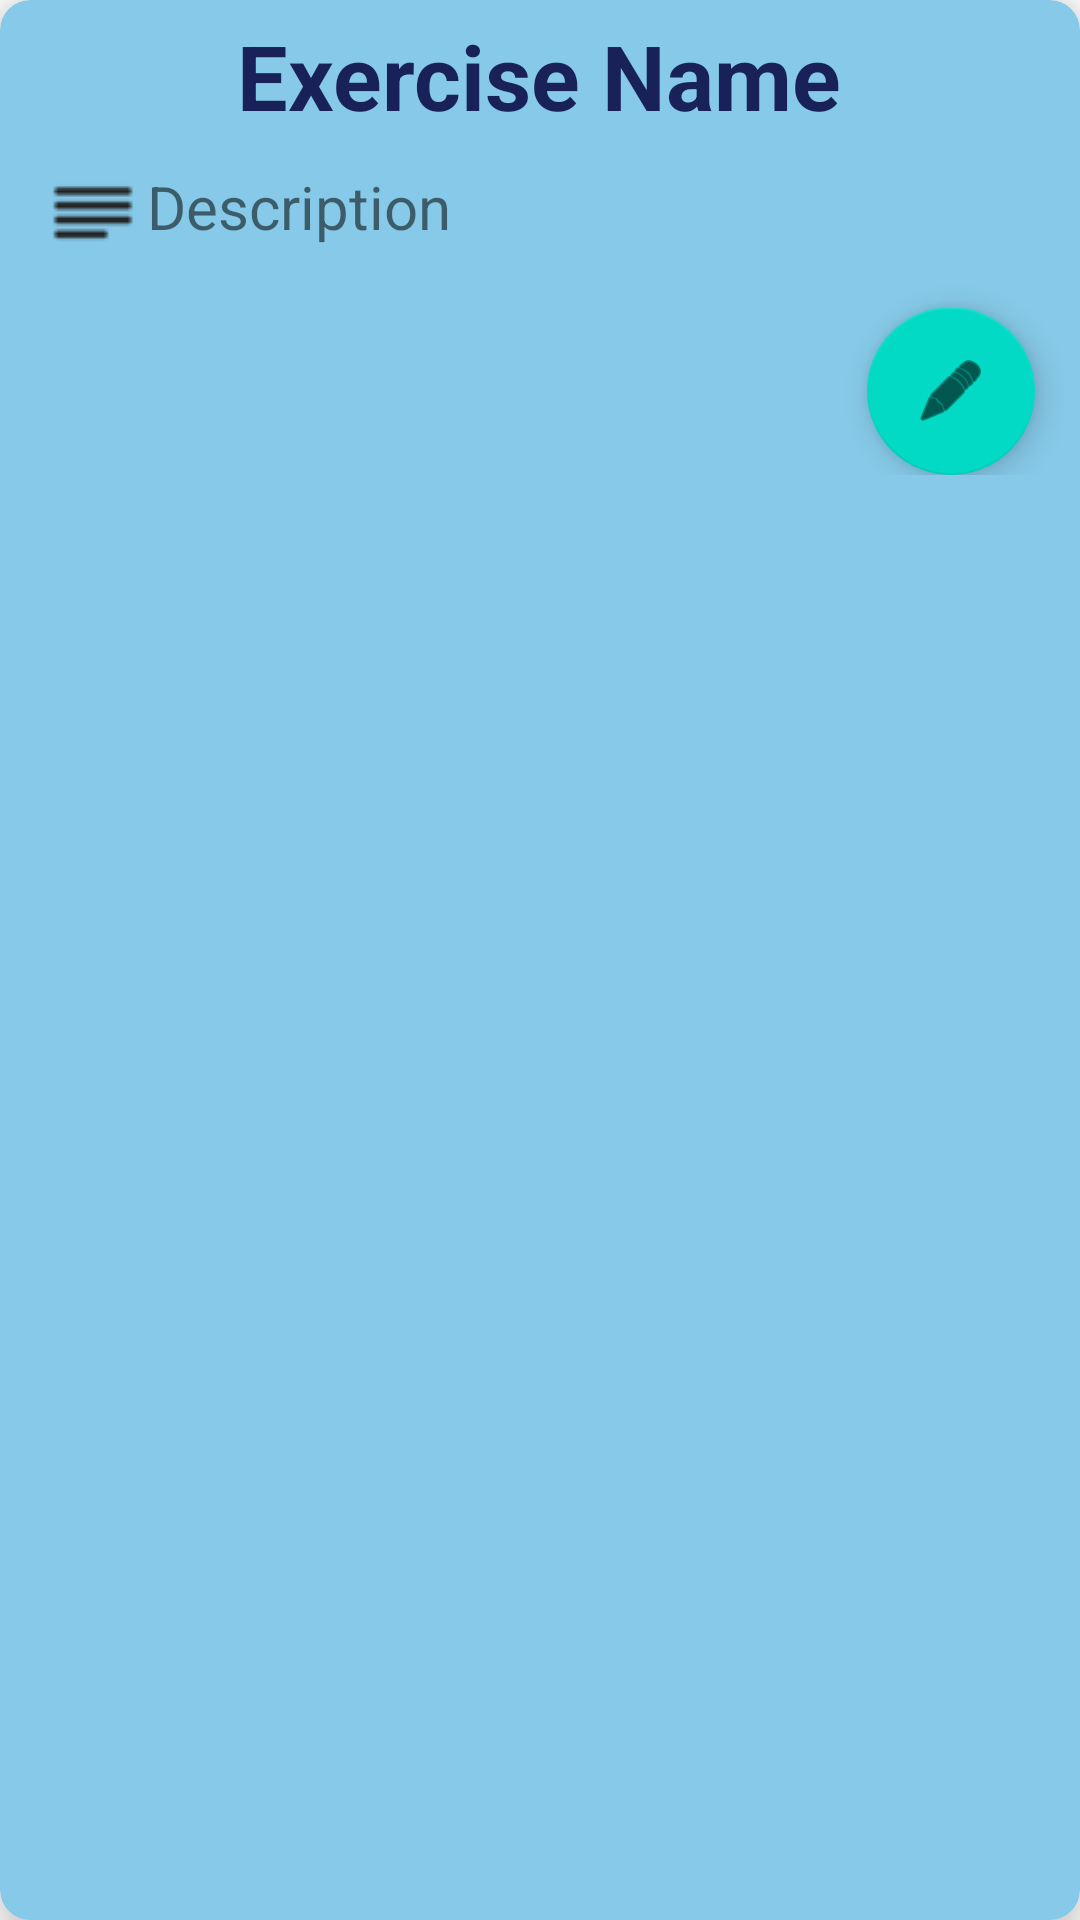

Icon bounding boxes for this 1080 x 1920 phone screenshot, format (x1, y1, x2, y2):
edit: (867, 307, 1035, 475)
